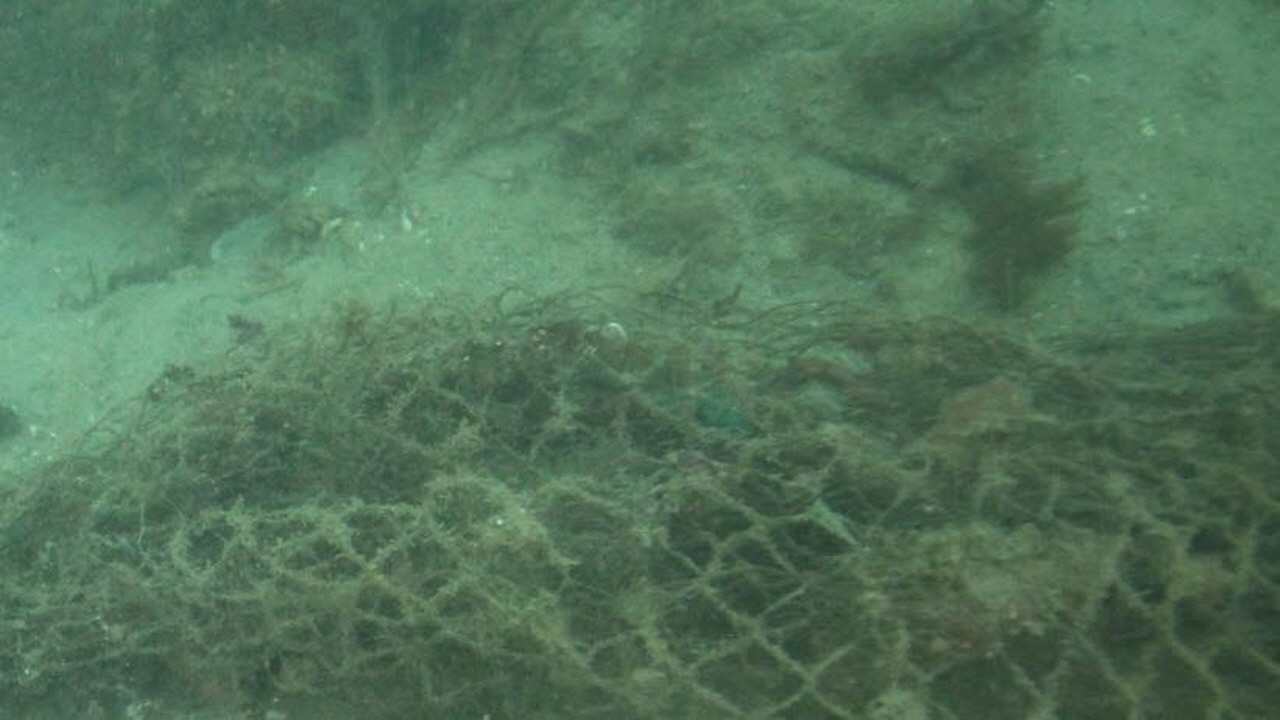fish net: (0, 284, 1280, 720)
